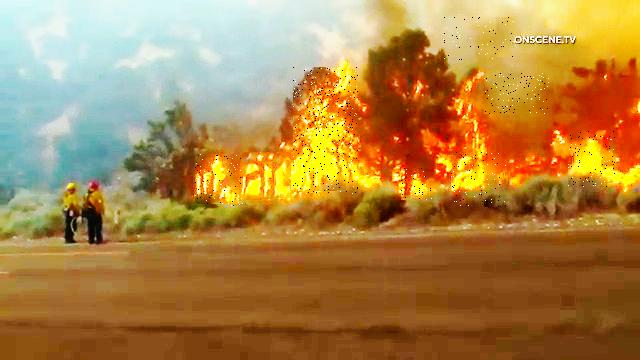fire: (293, 68, 358, 196), (451, 152, 506, 207), (243, 153, 298, 204), (196, 155, 248, 207), (569, 130, 616, 187), (402, 168, 433, 200)
smoke: (441, 18, 515, 61), (485, 73, 550, 114)
